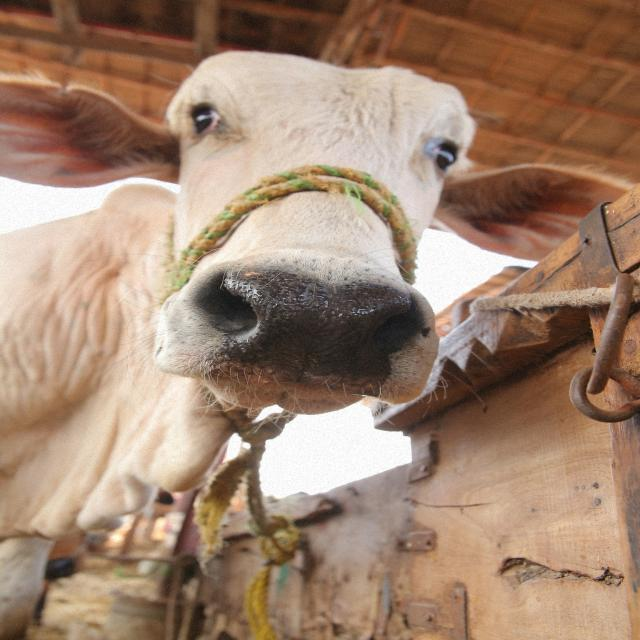muzzles: (185, 258, 422, 398)
